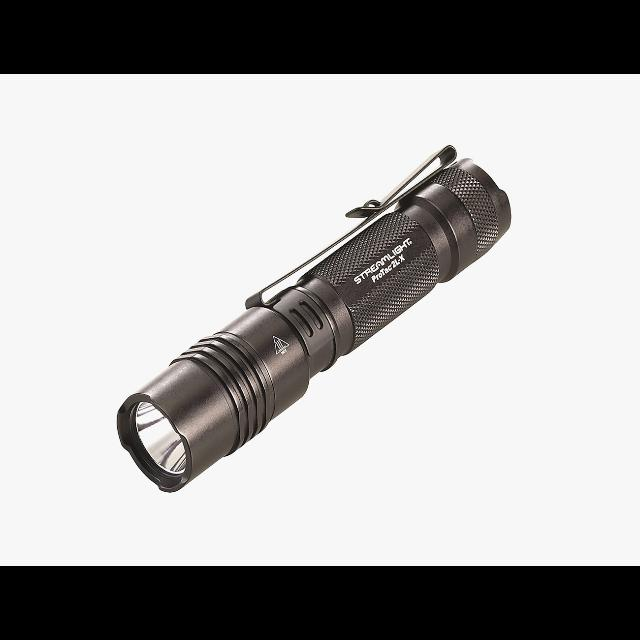Flashlight: (108, 140, 520, 496)
